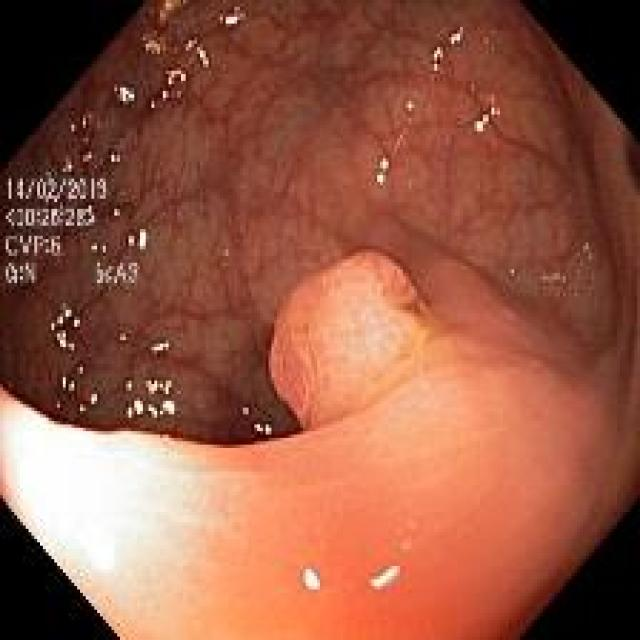Polyps: (270, 252, 428, 430)
